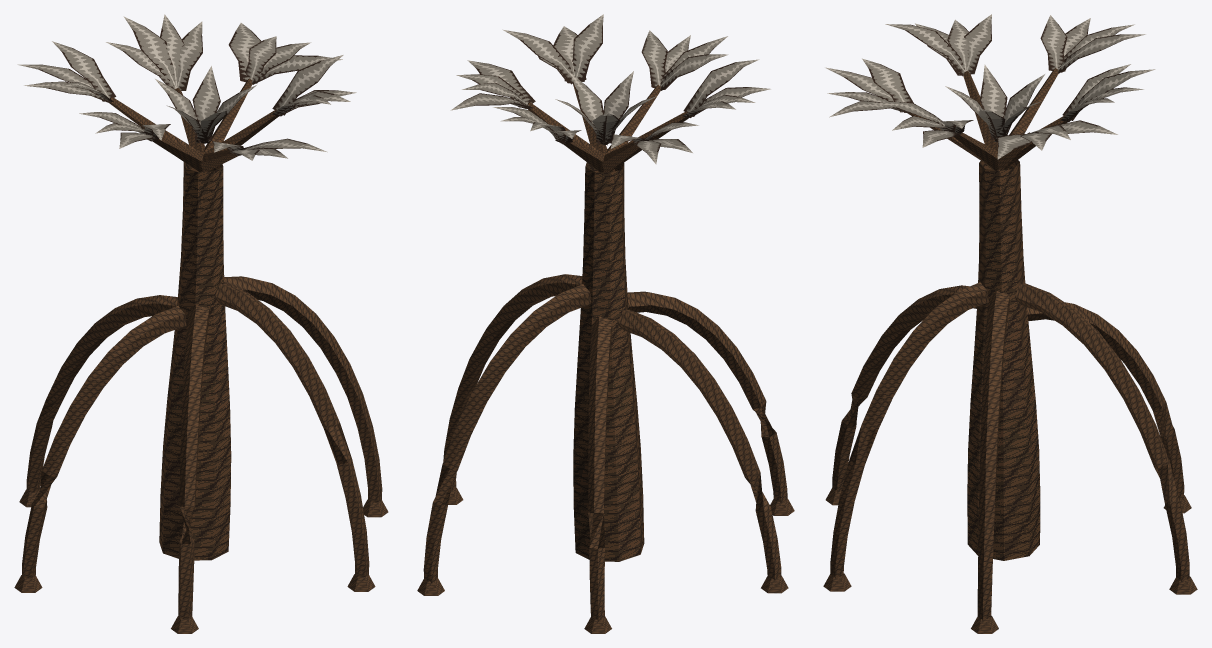
File: FLO-14_Arbol_arbotante.gltf
3 views of the same model, side by side, from view 1: azimuth 30°, elevation 25°; view 2: azimuth 150°, elevation 25°; view 3: azimuth 270°, elevation 25° (orthographic).
Visible parts, largest first — view 1: FLO-14_Arbol_arbotante; view 2: FLO-14_Arbol_arbotante; view 3: FLO-14_Arbol_arbotante.
Boxes of the visible parts, x1,y1,x2,y2 form: FLO-14_Arbol_arbotante: (14, 14, 388, 633); FLO-14_Arbol_arbotante: (417, 14, 794, 633); FLO-14_Arbol_arbotante: (823, 14, 1197, 633).
Size of what is drawn, in the model's own units: 4.84 by 6.17 by 4.35.
Materials: 1 (1 with a texture image).
